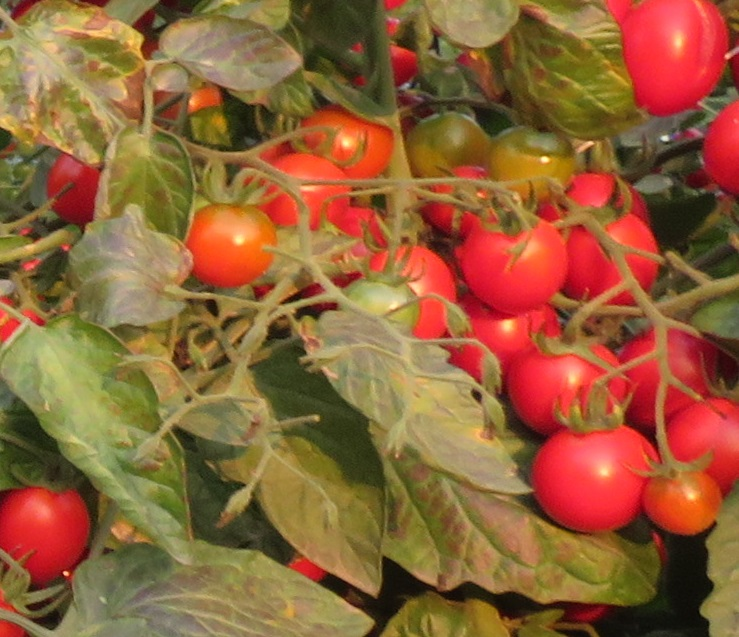green: (487, 124, 589, 203), (407, 111, 487, 166)
orange: (187, 195, 279, 284), (260, 156, 356, 232), (643, 464, 725, 534)
red: (523, 426, 652, 536), (624, 1, 728, 114), (509, 343, 632, 437), (464, 213, 573, 311), (1, 484, 96, 584), (565, 216, 661, 304)
